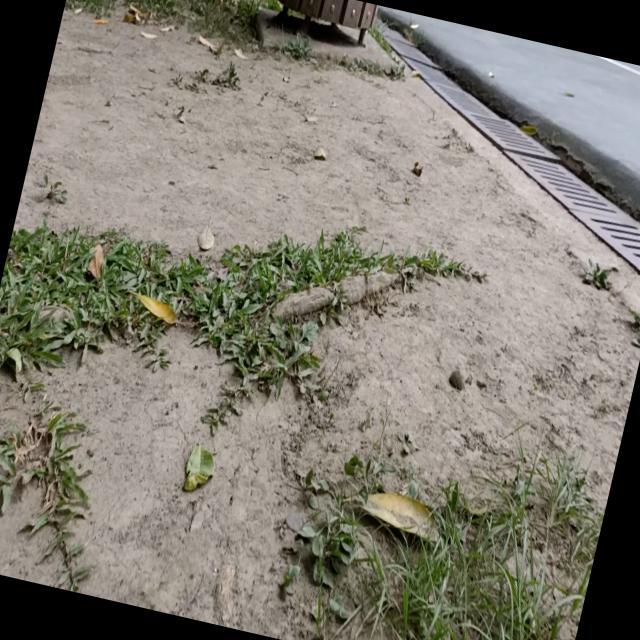asphalt: (378, 5, 640, 221)
cement: (302, 21, 398, 73), (255, 8, 303, 49)
grass: (0, 224, 485, 431), (282, 437, 604, 640), (0, 395, 88, 591), (123, 0, 276, 57), (182, 442, 214, 491), (276, 34, 311, 59), (211, 61, 239, 89), (583, 263, 609, 289), (43, 175, 66, 203), (631, 312, 640, 347)
white-sand: (13, 12, 640, 640), (13, 11, 640, 505), (35, 330, 309, 640), (0, 487, 59, 586), (0, 491, 60, 586), (0, 375, 28, 430)
